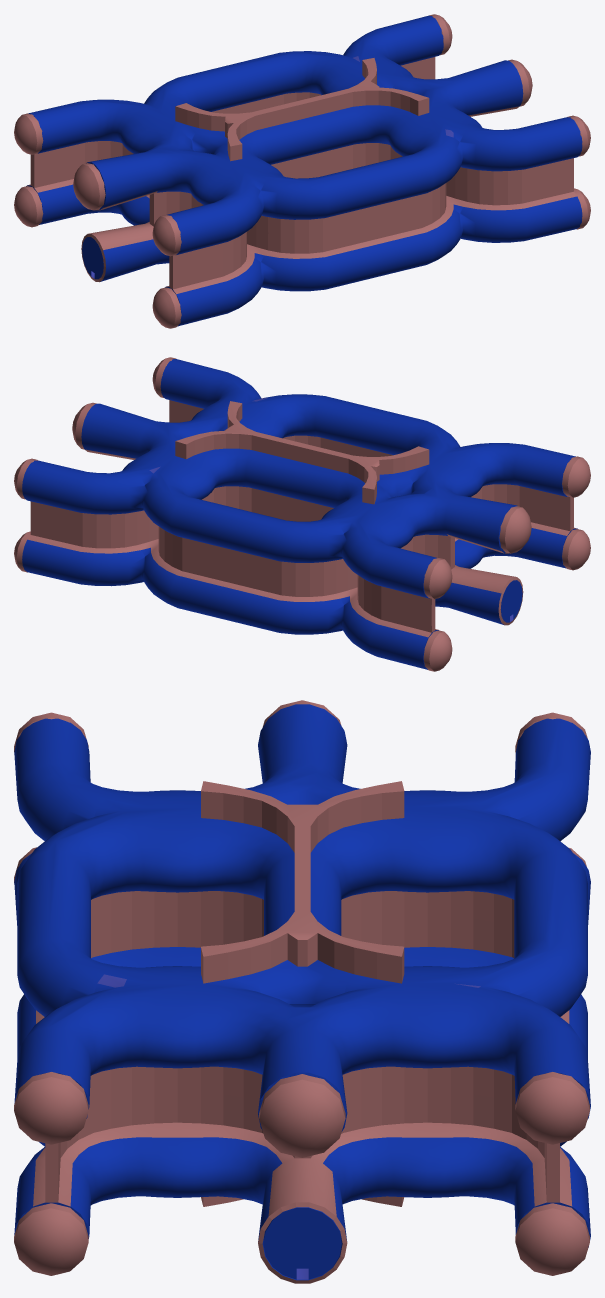
The model's file is SS Module Tubes 1.FBX.
3 renders of one model, top to bottom at view 1: azimuth 30°, elevation 25°; view 2: azimuth 150°, elevation 25°; view 3: azimuth 270°, elevation 25°, orthographic. The views are drawn at different scales.
Visible parts, largest first — view 1: Tube003, OilTank006, OilTank008, OilTank010, OilTank007, OilTank009, OilTank001; view 2: Tube003, OilTank006, OilTank008, OilTank010, OilTank007, OilTank009, OilTank001; view 3: Tube003, OilTank001, OilTank002, OilTank004, OilTank003, OilTank005.
Boxes of the visible parts, x1,y1,x2,y2 form: Tube003: [26, 15, 582, 326]; OilTank006: [73, 163, 105, 210]; OilTank008: [14, 186, 43, 227]; OilTank010: [152, 287, 181, 328]; OilTank007: [14, 113, 43, 154]; OilTank009: [152, 215, 181, 256]; OilTank001: [508, 59, 532, 106]; Tube003: [22, 359, 577, 669]; OilTank006: [499, 506, 531, 553]; OilTank008: [423, 630, 452, 671]; OilTank010: [562, 529, 590, 570]; OilTank007: [423, 558, 452, 599]; OilTank009: [562, 456, 590, 497]; OilTank001: [72, 402, 96, 449]; Tube003: [14, 704, 590, 1283]; OilTank001: [259, 1074, 345, 1157]; OilTank002: [515, 1072, 589, 1144]; OilTank004: [14, 1072, 88, 1144]; OilTank003: [515, 1203, 589, 1275]; OilTank005: [14, 1203, 88, 1275].
Size of the model in its own units: 319 by 93.39 by 195.
